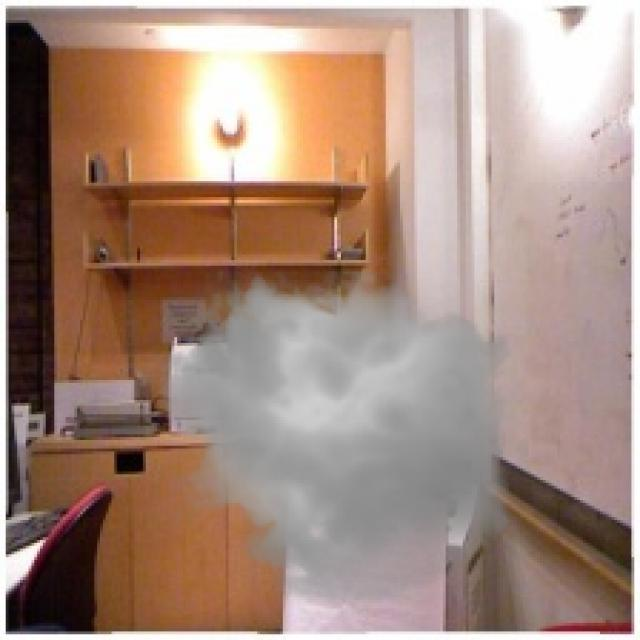smoke: (146, 254, 528, 617)
